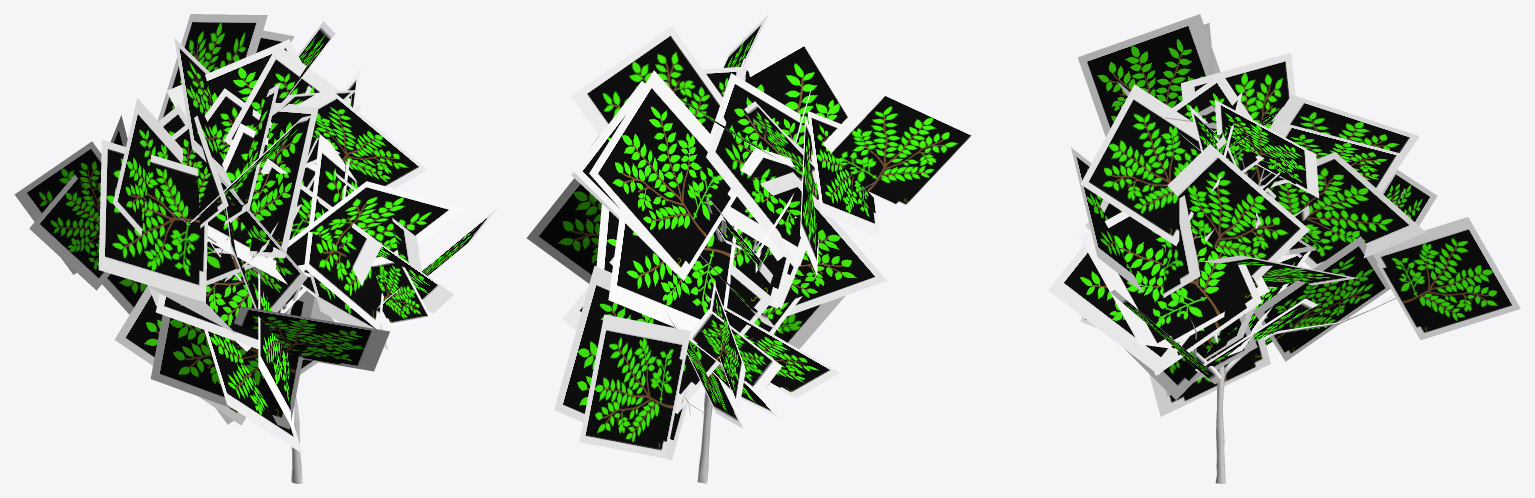
File: tree_c.fbx
The picture shows the model from 3 angles, left to right: view 1: azimuth 30°, elevation 25°; view 2: azimuth 150°, elevation 25°; view 3: azimuth 270°, elevation 25°; orthographic projection. The views are drawn at different scales.
Parts seen in each view (by area): view 1: tree_c; view 2: tree_c; view 3: tree_c.
Boxes of the visible parts, x1=… form: tree_c: x1=14, y1=14, x2=497, y2=483; tree_c: x1=526, y1=14, x2=980, y2=483; tree_c: x1=1048, y1=14, x2=1520, y2=483.
Bounding box in the file's own units: 32.77 × 32.04 × 34.48.
2 materials, 1 textured.
